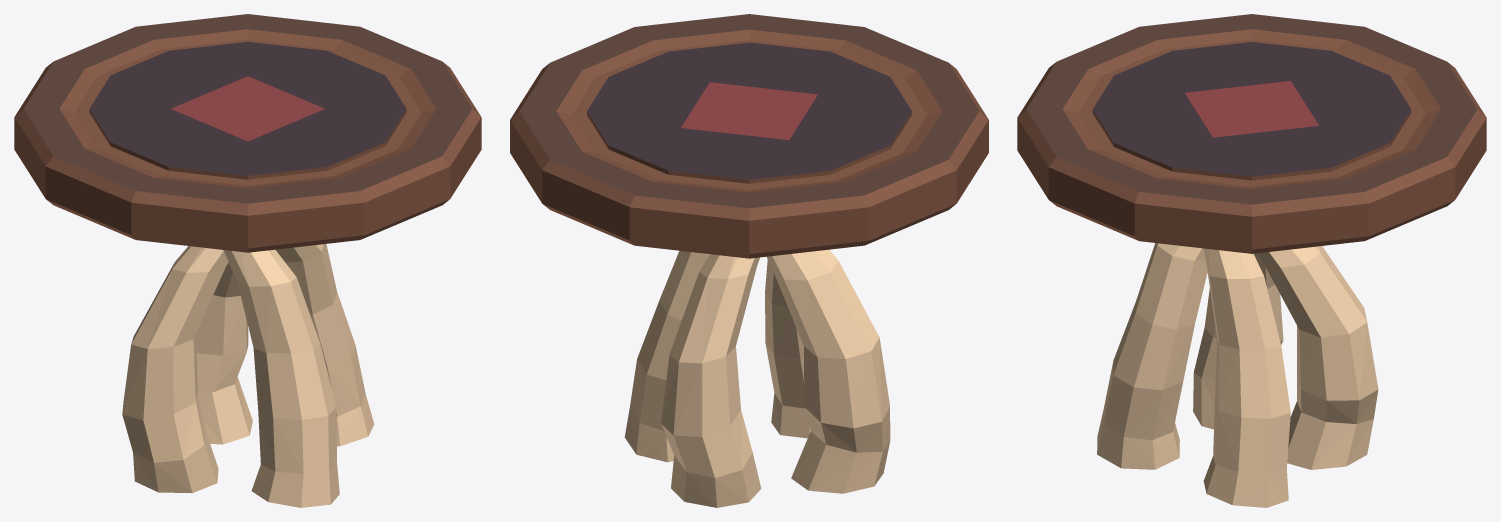
Rendered from SM_round_table.fbx.
3 renders of one model, left to right at view 1: azimuth 30°, elevation 25°; view 2: azimuth 150°, elevation 25°; view 3: azimuth 270°, elevation 25°, orthographic. The views are drawn at different scales.
Parts seen in each view (by area): view 1: round_table; view 2: round_table; view 3: round_table.
Boxes of the visible parts, x1,y1,x2,y2 form: round_table: [14, 14, 481, 507]; round_table: [510, 14, 988, 507]; round_table: [1017, 14, 1486, 507].
Size of the model in its own units: 133 by 109 by 133.
